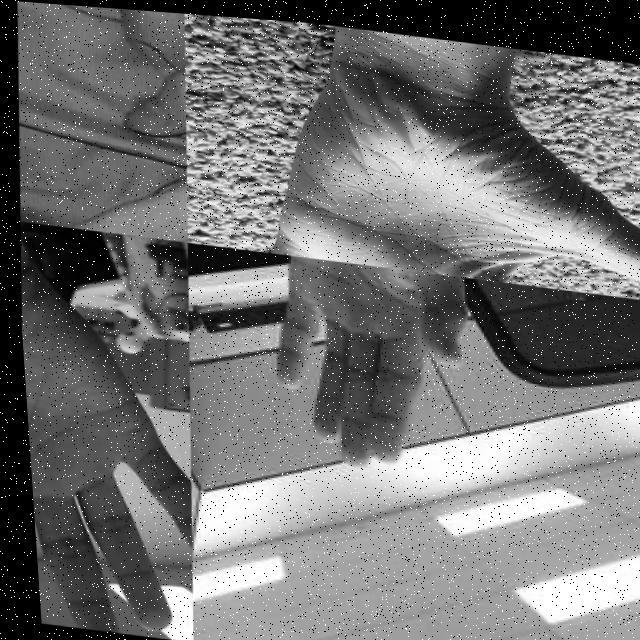no-gloves: (221, 40, 640, 291), (15, 291, 201, 640), (255, 248, 478, 482), (4, 1, 195, 240)
